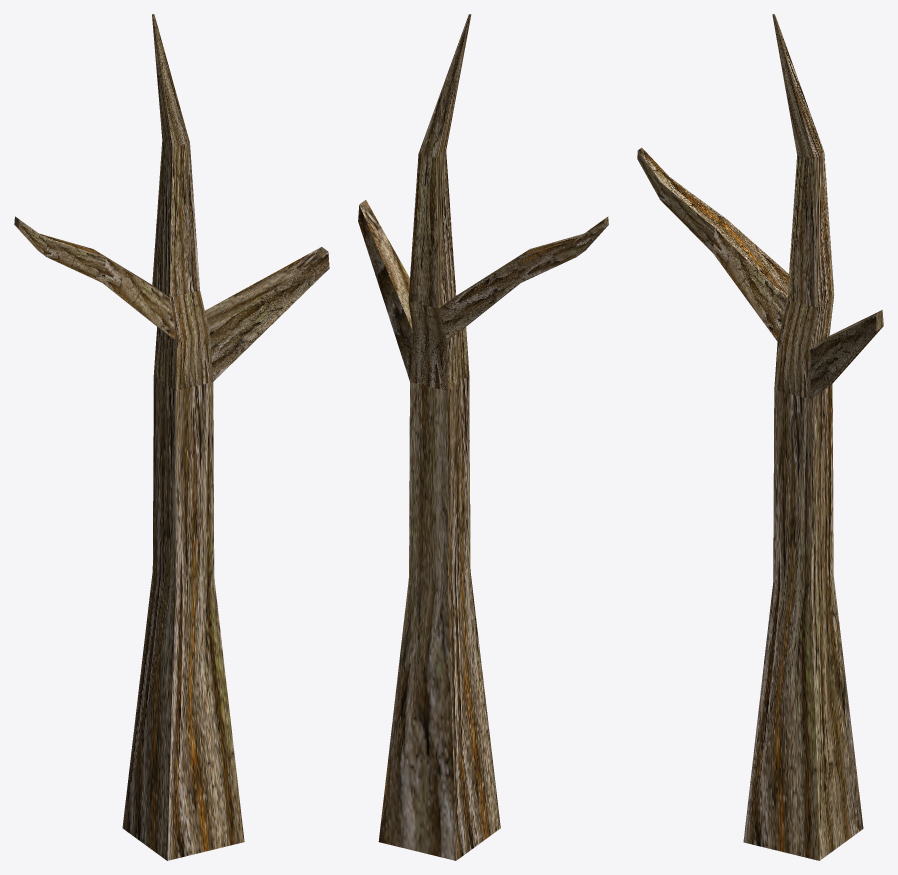
File: TREE.fbx
3 views of the same model, side by side, from view 1: azimuth 30°, elevation 25°; view 2: azimuth 150°, elevation 25°; view 3: azimuth 330°, elevation 25° (orthographic).
Parts seen in each view (by area): view 1: pCube2; view 2: pCube2; view 3: pCube2.
Part boxes in pixels (bbox=[...]): pCube2: bbox=[14, 14, 329, 860]; pCube2: bbox=[358, 14, 608, 860]; pCube2: bbox=[637, 14, 883, 860].
Size of the model in its own units: 3.58 by 10.22 by 1.3.
